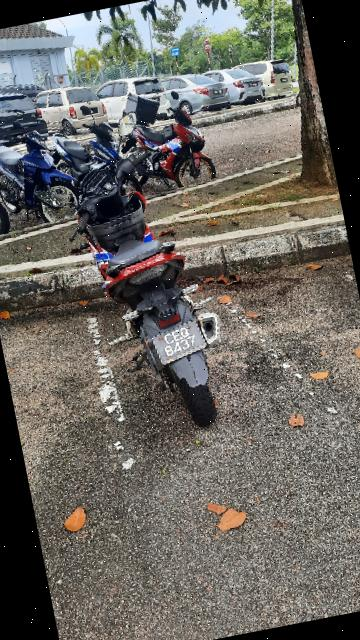License_Plate: (148, 312, 216, 370)
motorcycle: (15, 76, 278, 458)
